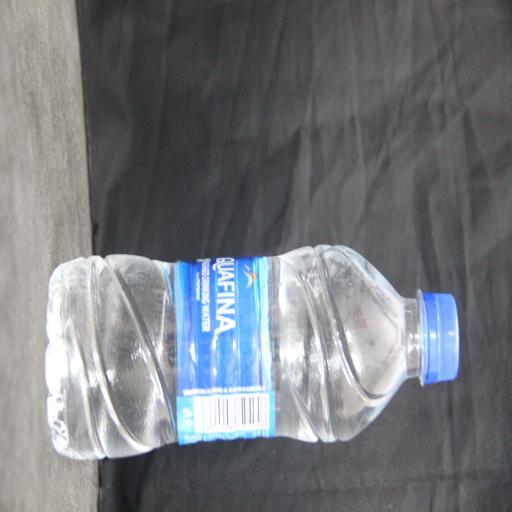Aquafina: (163, 79, 296, 512)
